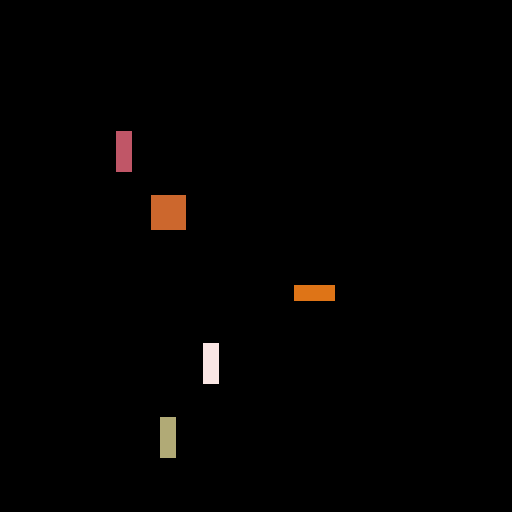side_rect: (291, 281, 336, 305)
square: (152, 195, 189, 229)
up_rect: (111, 130, 132, 174), (199, 341, 220, 385), (156, 414, 177, 458)
